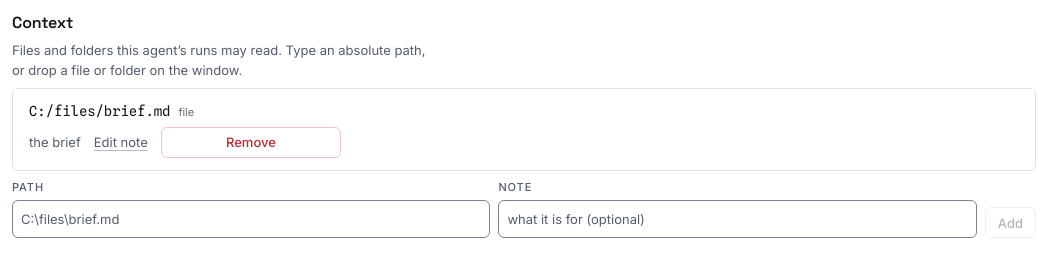
ContextRefs - the owner's context files › cancelling a note edit sends nothing
This screenshot has width=1048, height=262.
Expected: the text "the brief" is shown, [29,132,81,152]
Click the button "Edit note" at (121, 142), box [89,128,153,156]
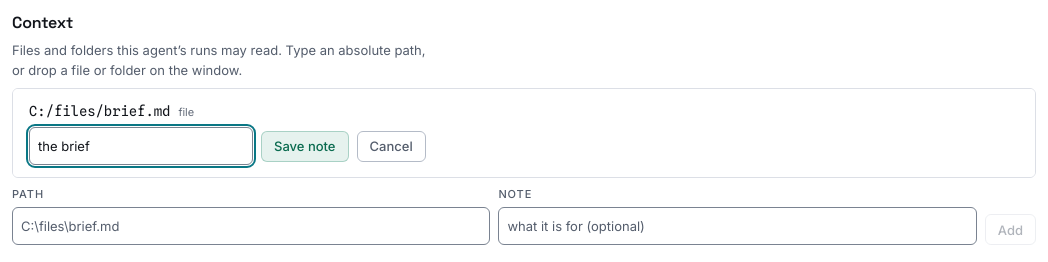
Replace the text in the field named "Note for C:/files/brief.md" with "never sent" at (141, 146), box [29,127,253,165]
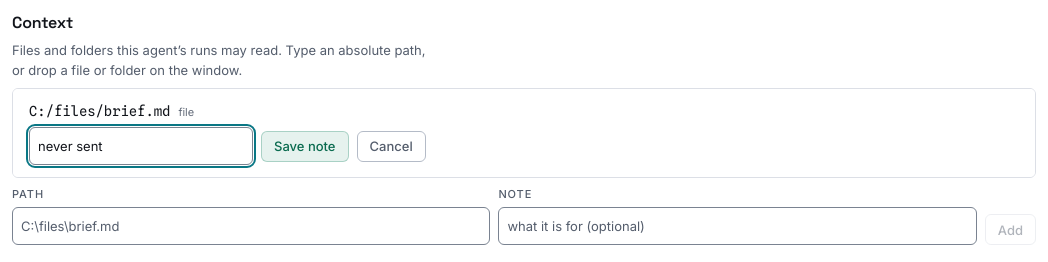
Click the button "Cancel" at (391, 146), box [356,130,426,162]
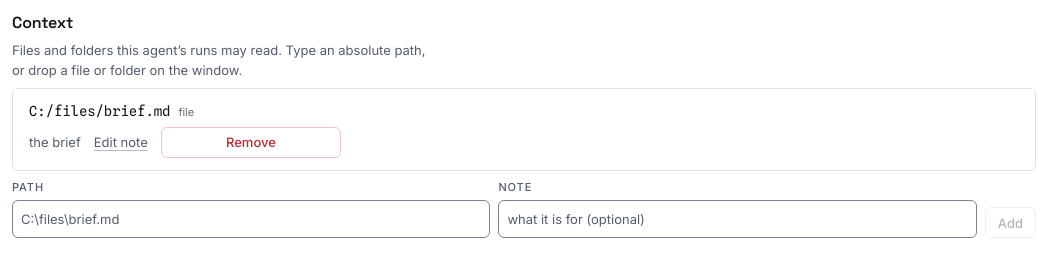
Result: the text "the brief" is shown at [29,132,81,152]
